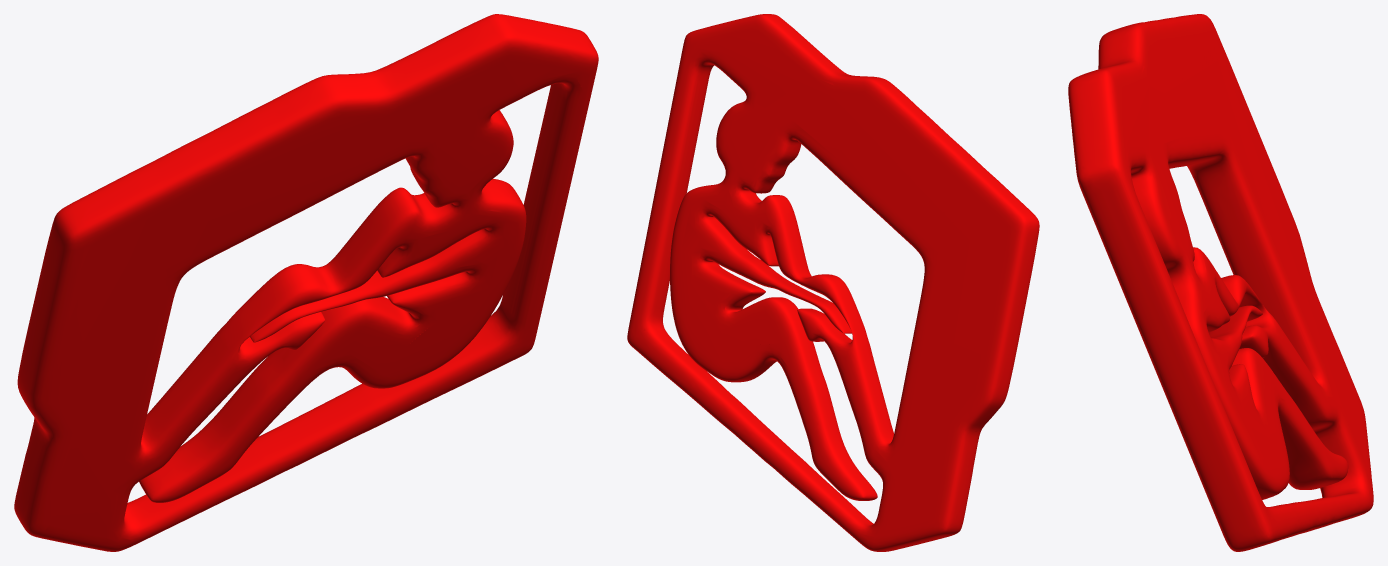
The model's file is videostore3d.obj.
The picture shows the model from 3 angles, left to right: view 1: azimuth 30°, elevation 25°; view 2: azimuth 150°, elevation 25°; view 3: azimuth 270°, elevation 25°; orthographic projection. The views are drawn at different scales.
Parts seen in each view (by area): view 1: path24; view 2: path24; view 3: path24.
Boxes of the visible parts, x1,y1,x2,y2 form: path24: (14, 14, 598, 551); path24: (627, 14, 1039, 551); path24: (1068, 14, 1373, 551).
Bounding box in the file's own units: 9.73 × 10.31 × 4.87.
